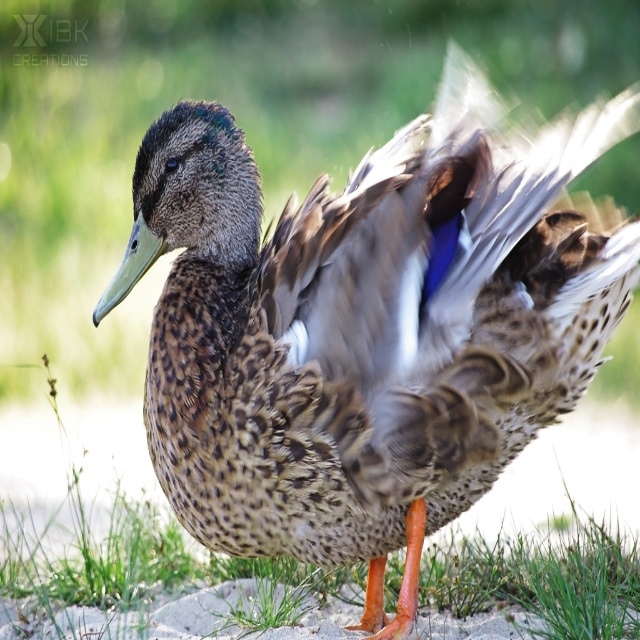Duck: (91, 97, 640, 639)
